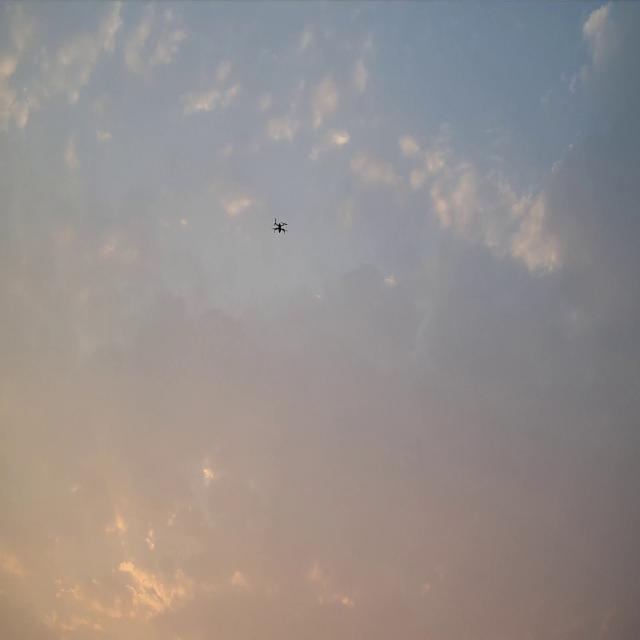drone: (271, 218, 288, 234)
